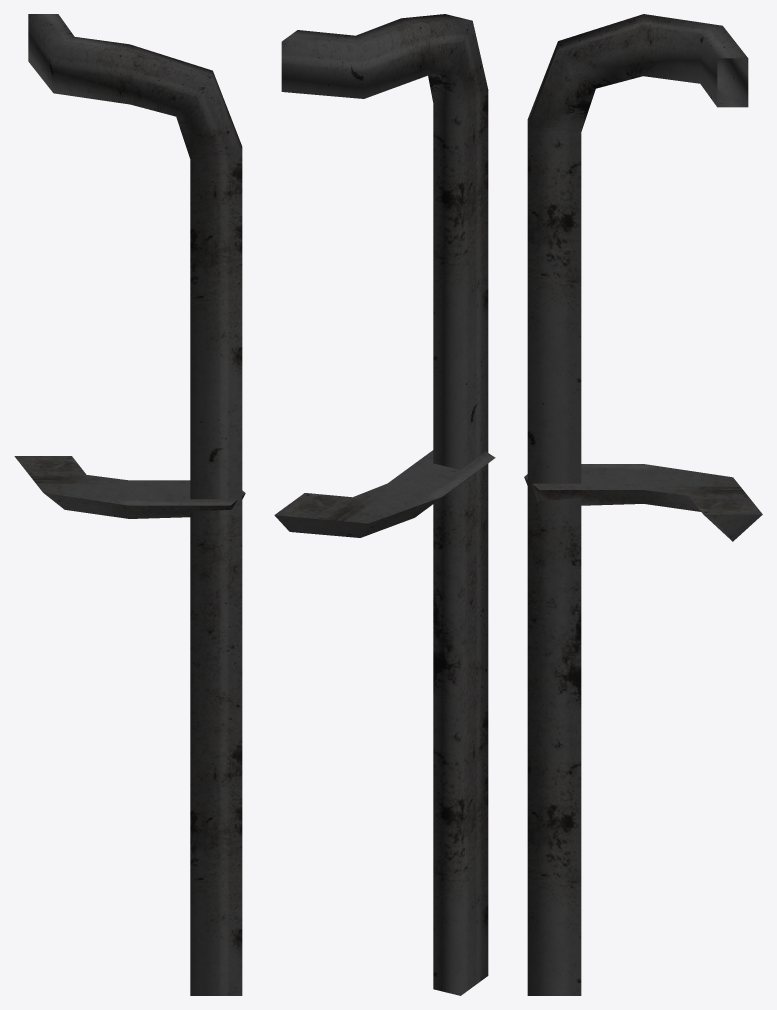
File: cs_handrail_90_right_lod2.glb
3 renders of one model, left to right at view 1: azimuth 90°, elevation 25°; view 2: azimuth 150°, elevation 25°; view 3: azimuth 270°, elevation 25°, orthographic. The views are drawn at different scales.
Parts seen in each view (by area): view 1: surf0; view 2: surf0; view 3: surf0.
Part boxes in pixels (x1,y1,x2,y2): surf0: [14, 14, 245, 995]; surf0: [274, 14, 495, 995]; surf0: [524, 14, 762, 995].
Size of the model in its own units: 4.04 by 35.91 by 8.02.
